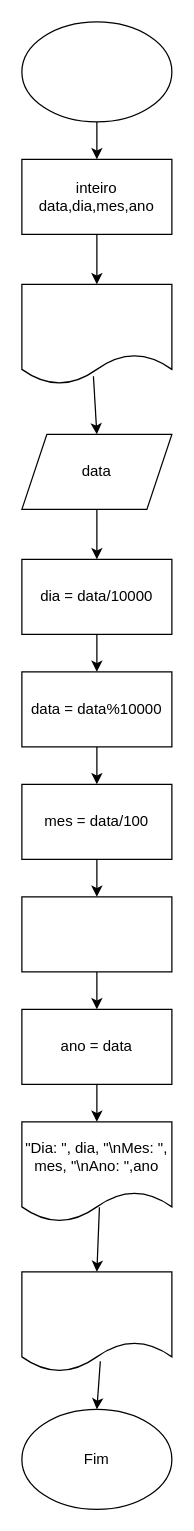
Image size: 194x1531. Some labels were removed from this diagram. The centre of each missing label's shape, as x and y in pixels:
"\nData no formado MMDDAA: ",mes,dia,ano: [96,1321]
"Informe a data: ": [96,333]
data = datas%100: [96,934]
Inicio: [96,71]
